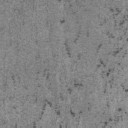oxide scale of temperature system: (96, 8, 128, 128), (14, 78, 90, 128), (62, 30, 90, 60), (34, 68, 50, 88), (57, 0, 76, 14), (11, 75, 16, 84), (60, 18, 64, 24), (124, 88, 128, 94)
